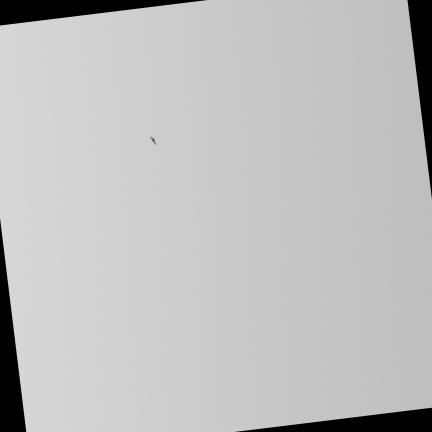Shahed: (148, 136, 156, 146)
